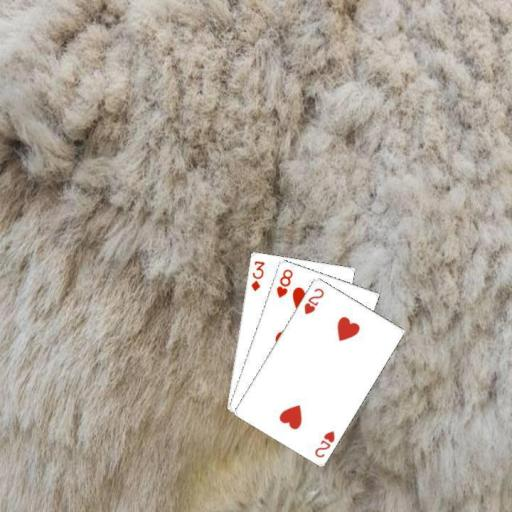card-corner: (300, 284, 326, 316), (312, 427, 336, 459), (273, 265, 294, 299), (247, 258, 266, 292)
